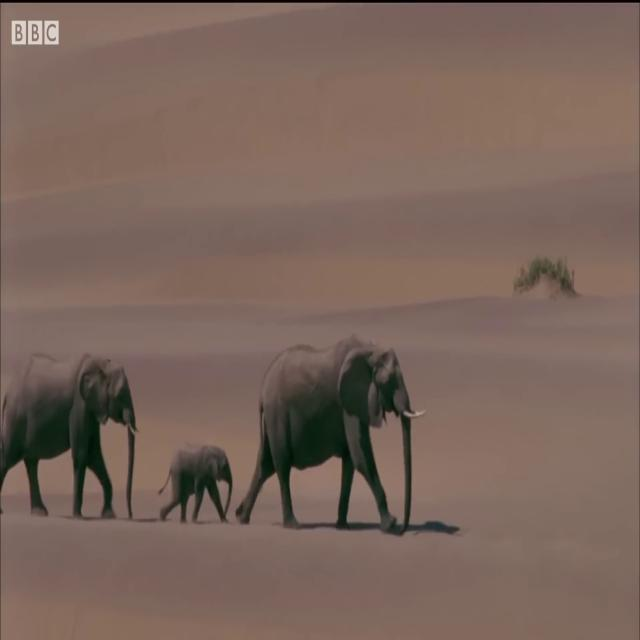Elephant: (234, 333, 426, 534), (0, 350, 139, 519), (157, 443, 233, 523)
